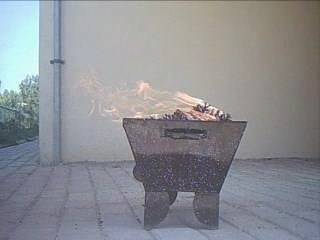fire: (72, 69, 229, 122)
